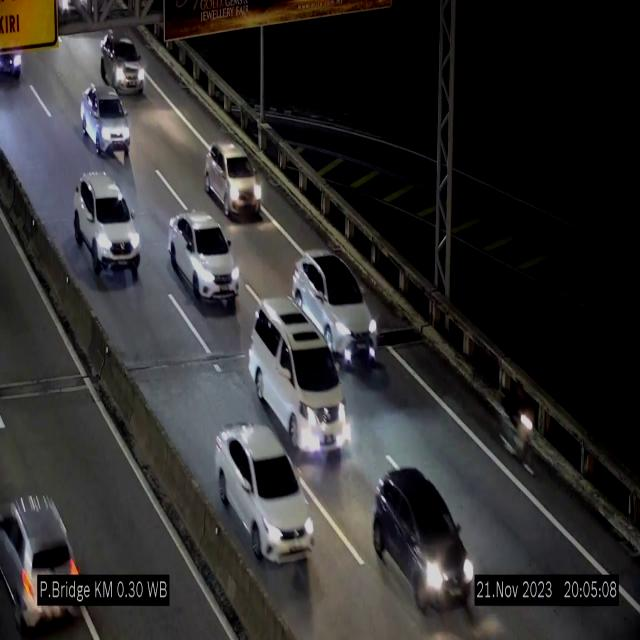Car: (248, 300, 348, 454), (374, 464, 475, 612), (214, 424, 314, 560), (292, 250, 377, 364), (74, 171, 140, 283), (168, 212, 240, 312), (205, 142, 263, 218), (80, 83, 130, 159), (101, 35, 145, 94)
Motorcycle: (500, 377, 540, 485)
